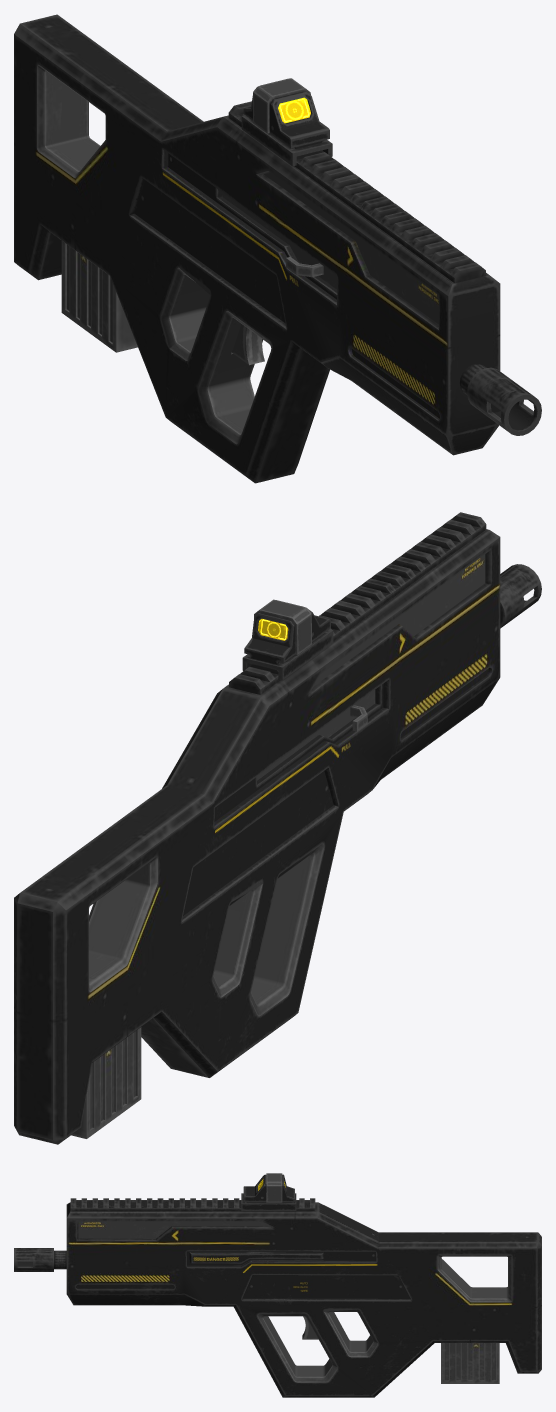
The picture shows the model from 3 angles, top to bottom: view 1: azimuth 30°, elevation 25°; view 2: azimuth 150°, elevation 25°; view 3: azimuth 270°, elevation 25°; orthographic projection. The views are drawn at different scales.
Parts seen in each view (by area): view 1: polySurface36_BlackCoat_0, polySurface36_GreyCoat_0, Sight2_BlackGlass_0; view 2: polySurface36_BlackCoat_0, polySurface36_GreyCoat_0; view 3: polySurface36_BlackCoat_0, polySurface36_GreyCoat_0.
Boxes of the visible parts, bbox=[...] form: polySurface36_BlackCoat_0: bbox=[14, 14, 541, 483]; polySurface36_GreyCoat_0: bbox=[37, 64, 438, 444]; Sight2_BlackGlass_0: bbox=[278, 97, 310, 123]; polySurface36_BlackCoat_0: bbox=[14, 512, 541, 1144]; polySurface36_GreyCoat_0: bbox=[71, 554, 485, 1138]; polySurface36_BlackCoat_0: bbox=[14, 1174, 541, 1397]; polySurface36_GreyCoat_0: bbox=[78, 1173, 511, 1383].
Size of the model in its own units: 0.0907 by 0.5586 by 1.24.
4 materials, 3 textured.
